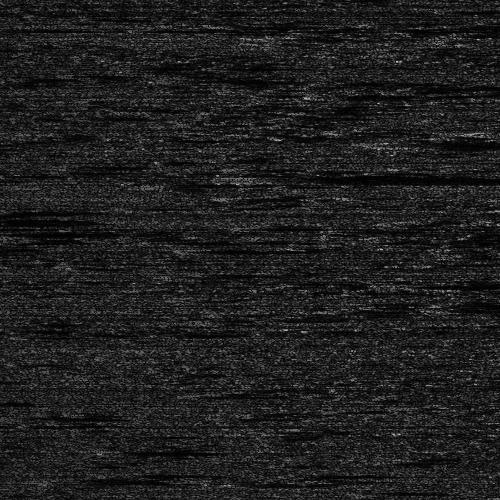object: (12, 471, 105, 482), (364, 137, 447, 148), (77, 444, 160, 455), (462, 127, 500, 138), (0, 206, 26, 215), (233, 175, 264, 178)
shadow: (406, 137, 500, 148), (119, 444, 213, 455), (59, 471, 148, 482), (0, 206, 89, 215), (249, 175, 464, 178), (0, 217, 63, 224)
